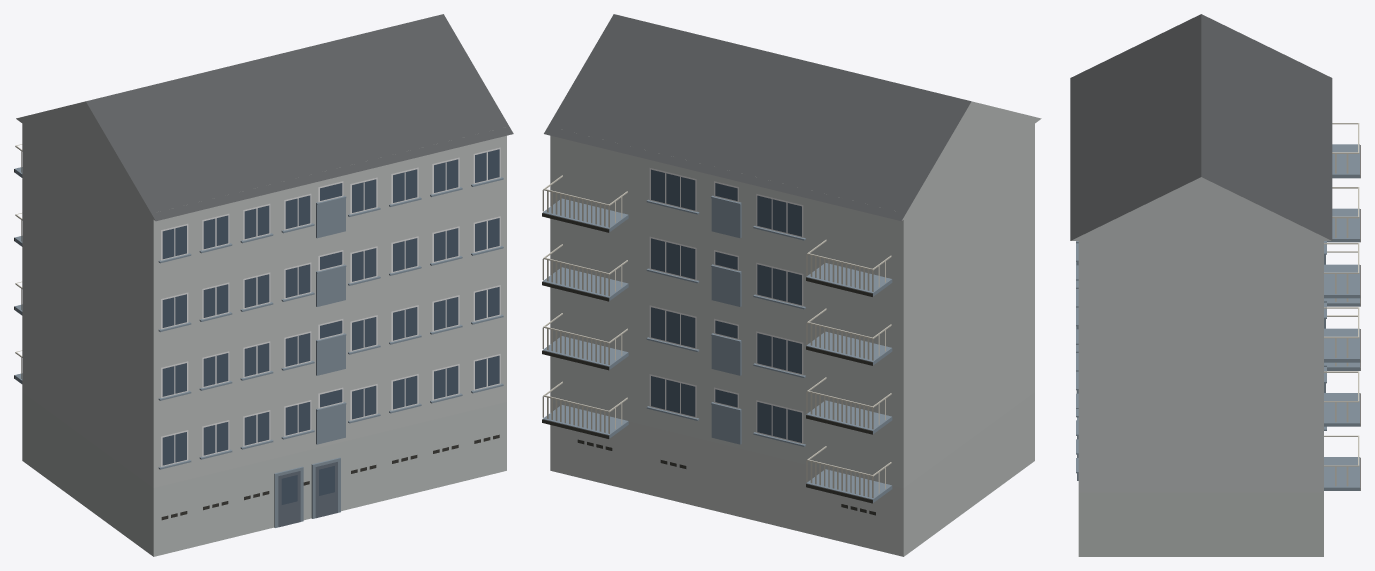
File: nw-peach-render-entrance-front__grey-blue__5__gable__long__solid.glb
The picture shows the model from 3 angles, left to right: view 1: azimuth 30°, elevation 25°; view 2: azimuth 150°, elevation 25°; view 3: azimuth 270°, elevation 25°; orthographic projection. The views are drawn at different scales.
Visible parts, largest first — view 1: nw-peach-render-entrance-front__grey-blue__5__gable__long__s; view 2: nw-peach-render-entrance-front__grey-blue__5__gable__long__s; view 3: nw-peach-render-entrance-front__grey-blue__5__gable__long__s.
Boxes of the visible parts, bbox=[...] form: nw-peach-render-entrance-front__grey-blue__5__gable__long__s: bbox=[14, 14, 513, 556]; nw-peach-render-entrance-front__grey-blue__5__gable__long__s: bbox=[542, 14, 1041, 556]; nw-peach-render-entrance-front__grey-blue__5__gable__long__s: bbox=[1070, 14, 1360, 556].
Bounding box in the file's own units: 16.08 × 17.52 × 12.1.
